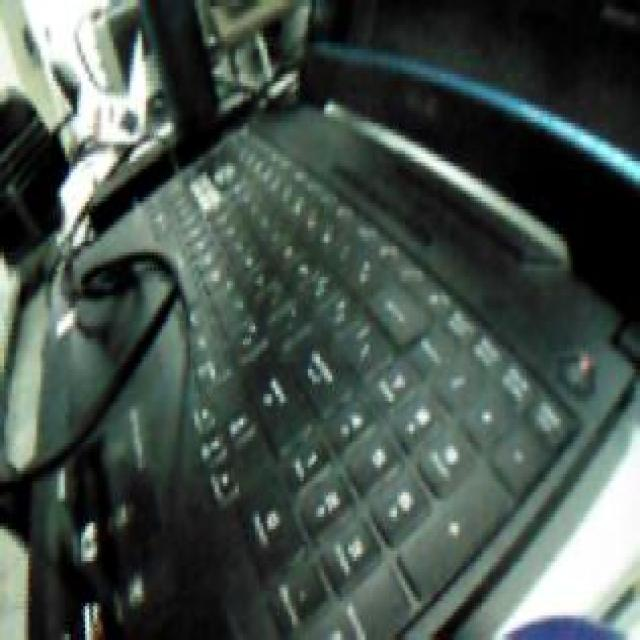BallPurple: (499, 612, 635, 640)
